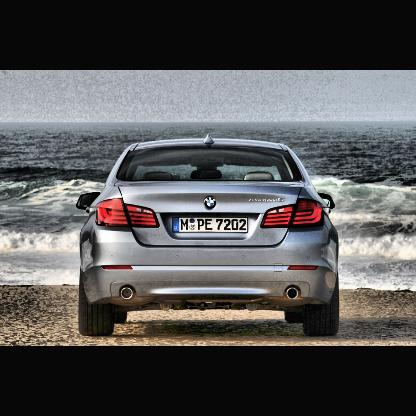BMW ActiveHybrid 5 Sedan 2012: (77, 131, 345, 340)
